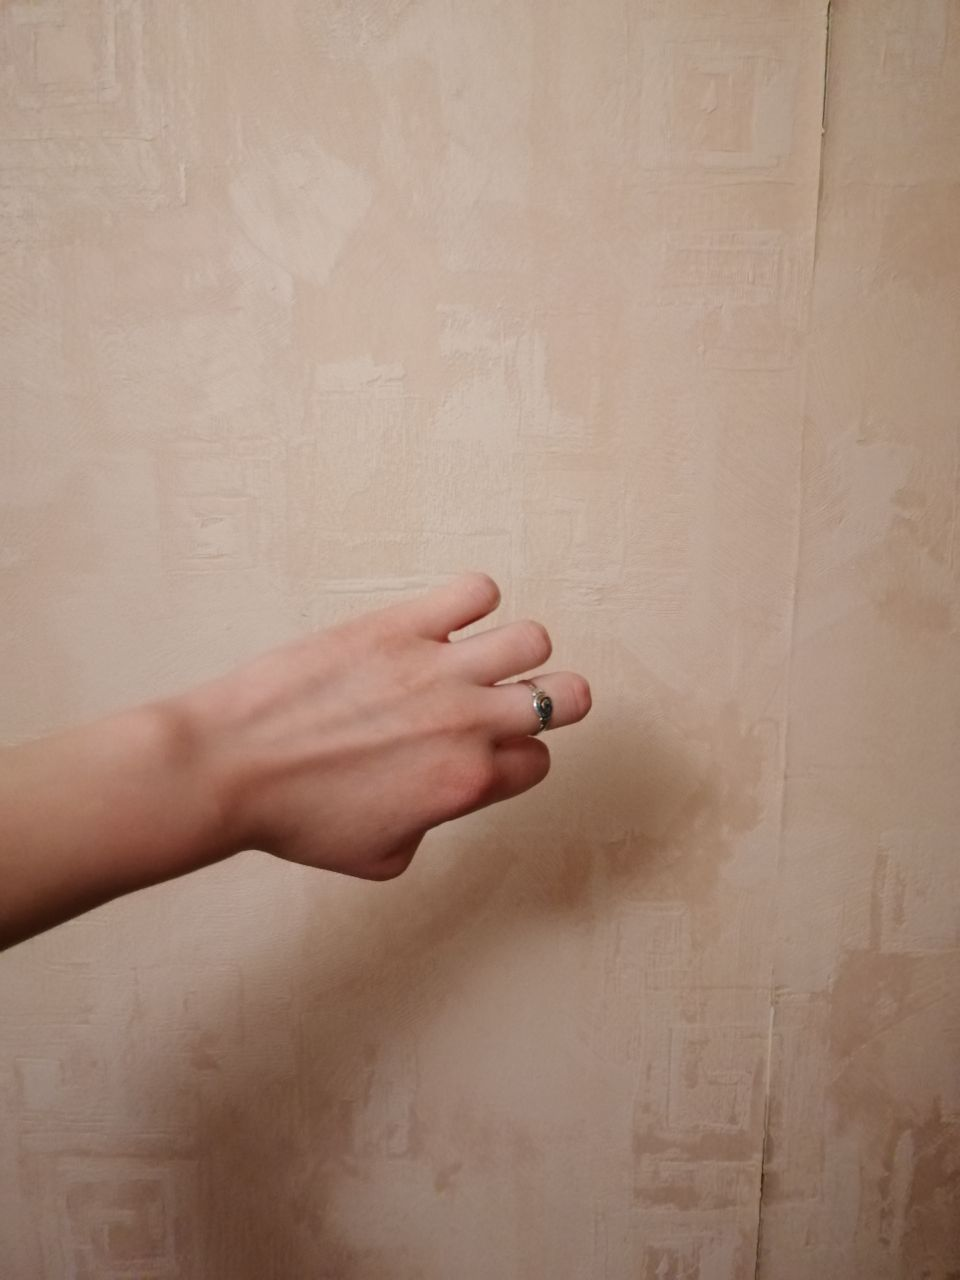hand: (232, 588, 571, 863)
